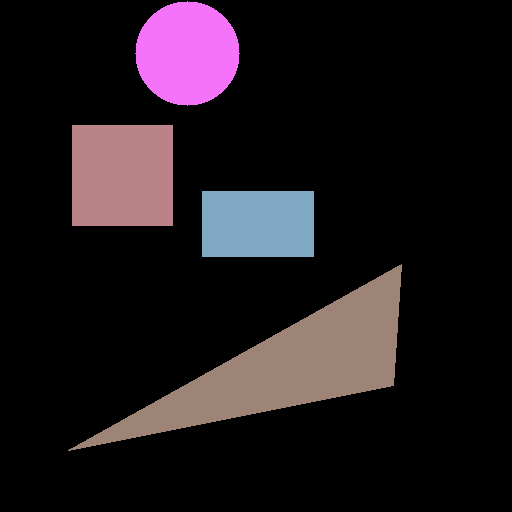circle: (135, 1, 239, 105)
rectangle: (202, 191, 313, 256)
square: (72, 125, 172, 225)
triangle: (68, 264, 401, 450)
